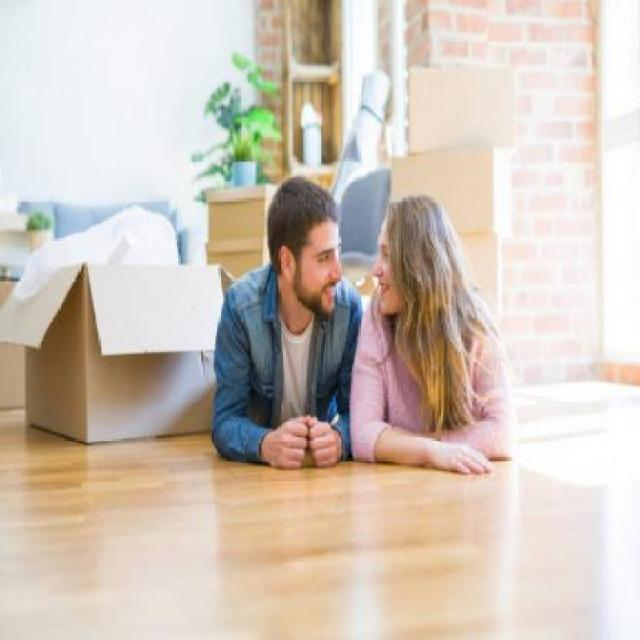box: (8, 266, 236, 446), (396, 148, 518, 228), (402, 64, 515, 148), (203, 186, 295, 243)
